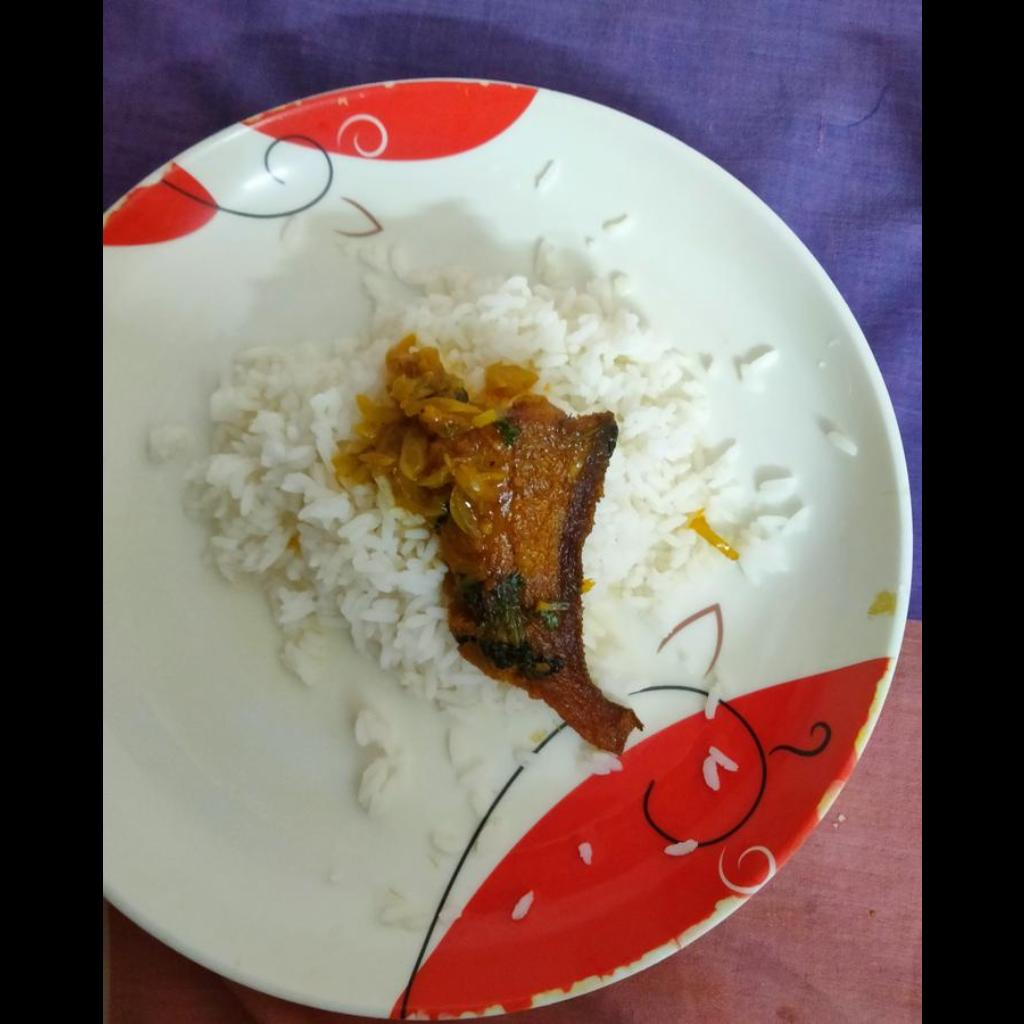fish: (441, 396, 630, 766)
rice: (193, 247, 791, 713)
